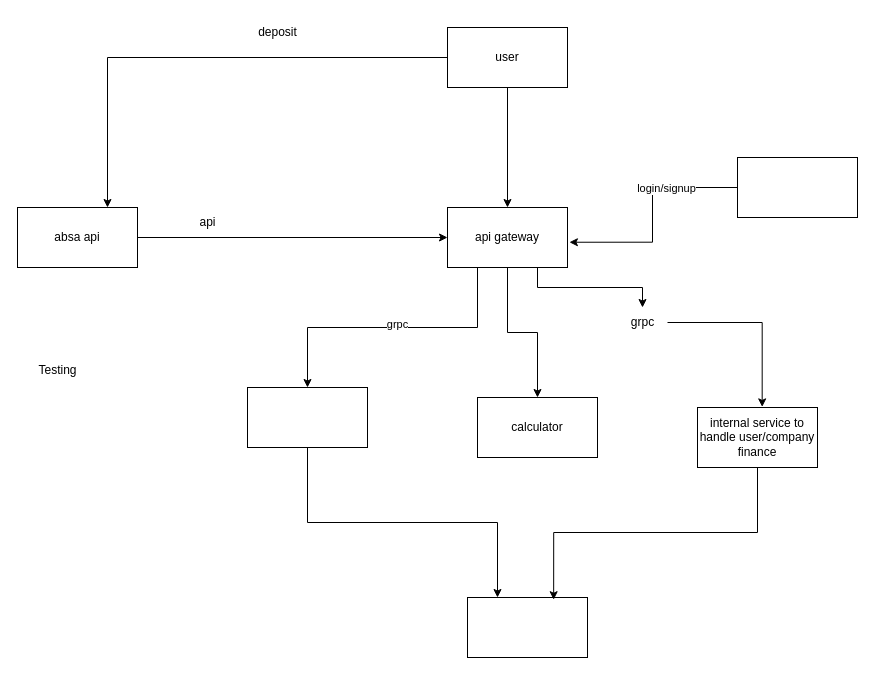
The diagram is 875 pixels wide and 675 high, and some of its shapes have lost their labels. The centre of each missing label's shape, as x and y in pixels:
"bank service" goes at pixel 307 417.
"database" goes at pixel 527 627.
"supabase" goes at pixel 797 187.
